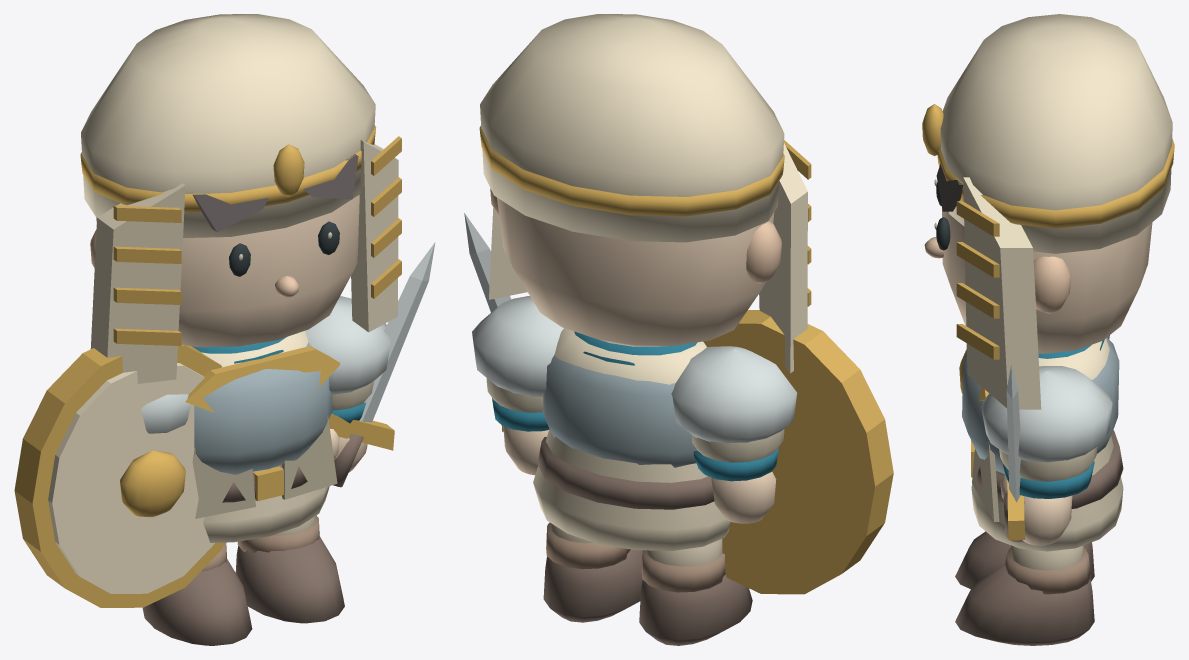
Rendered from guard.glb.
The picture shows the model from 3 angles, left to right: view 1: azimuth 30°, elevation 25°; view 2: azimuth 150°, elevation 25°; view 3: azimuth 270°, elevation 25°; orthographic projection. The views are drawn at different scales.
Visible parts, largest first — view 1: Striped nemes crown, Regional shield face, Soft cheek head, Shield gold rim, Rounded breastplate, Nemes shoulder wing, Round leather boot.001, Round leather boot, Nemes shoulder wing.001, Short folded tunic, Big shoulder armour.001, Shield boss (+19 smaller); view 2: Striped nemes crown, Shield gold rim, Soft cheek head, Short folded tunic, Rounded breastplate, Big shoulder armour, Big shoulder armour.001, Nemes front band, Nemes shoulder wing, Round leather boot, Round leather boot.001, Broad leather belt (+13 smaller); view 3: Striped nemes crown, Nemes shoulder wing.001, Soft cheek head, Big shoulder armour.001, Round leather boot.001, Short folded tunic, Nemes front band, Rounded breastplate, Little mitten.001, Boot turn cuff.001, Round leather boot, Ear.001 (+14 smaller).
Boxes of the visible parts, <box> form: Striped nemes crown: <box>81,14,375,237</box>; Regional shield face: <box>48,363,214,593</box>; Soft cheek head: <box>96,195,359,347</box>; Shield gold rim: <box>14,345,224,607</box>; Rounded breastplate: <box>194,342,333,474</box>; Nemes shoulder wing: <box>90,183,185,383</box>; Round leather boot.001: <box>235,536,344,623</box>; Round leather boot: <box>142,559,252,645</box>; Nemes shoulder wing.001: <box>351,140,398,332</box>; Short folded tunic: <box>201,331,329,542</box>; Big shoulder armour.001: <box>305,296,391,395</box>; Shield boss: <box>120,450,185,517</box>; Striped nemes crown: <box>480,14,784,242</box>; Shield gold rim: <box>703,310,893,594</box>; Soft cheek head: <box>497,197,774,346</box>; Short folded tunic: <box>533,328,731,550</box>; Rounded breastplate: <box>542,355,697,467</box>; Big shoulder armour: <box>671,346,796,443</box>; Big shoulder armour.001: <box>472,296,563,396</box>; Nemes front band: <box>479,126,784,216</box>; Nemes shoulder wing: <box>759,143,807,373</box>; Round leather boot: <box>639,574,752,645</box>; Round leather boot.001: <box>543,549,642,622</box>; Broad leather belt: <box>537,437,714,509</box>; Striped nemes crown: <box>940,14,1172,253</box>; Nemes shoulder wing.001: <box>963,177,1041,409</box>; Soft cheek head: <box>942,208,1152,353</box>; Big shoulder armour.001: <box>981,366,1112,462</box>; Round leather boot.001: <box>955,563,1094,645</box>; Short folded tunic: <box>971,338,1123,551</box>; Nemes front band: <box>937,139,1174,228</box>; Rounded breastplate: <box>962,338,1119,473</box>; Little mitten.001: <box>1023,495,1072,545</box>; Boot turn cuff.001: <box>1005,547,1090,594</box>; Round leather boot: <box>955,531,1094,589</box>; Ear.001: <box>1033,256,1071,313</box>.
Bounding box in the file's own units: 1.15 × 1.54 × 0.615.
